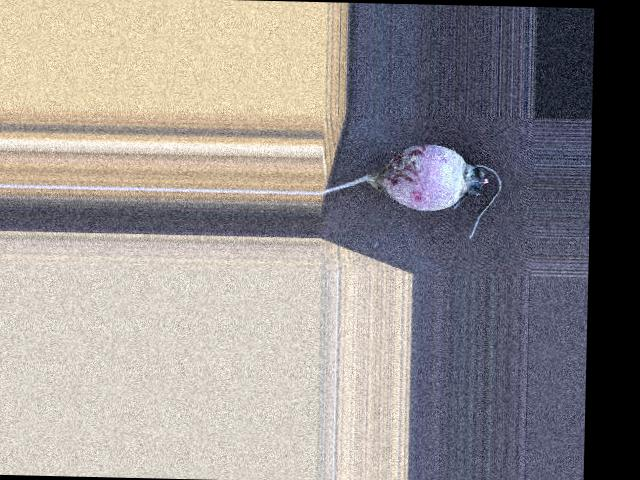beet: (319, 141, 502, 239)
